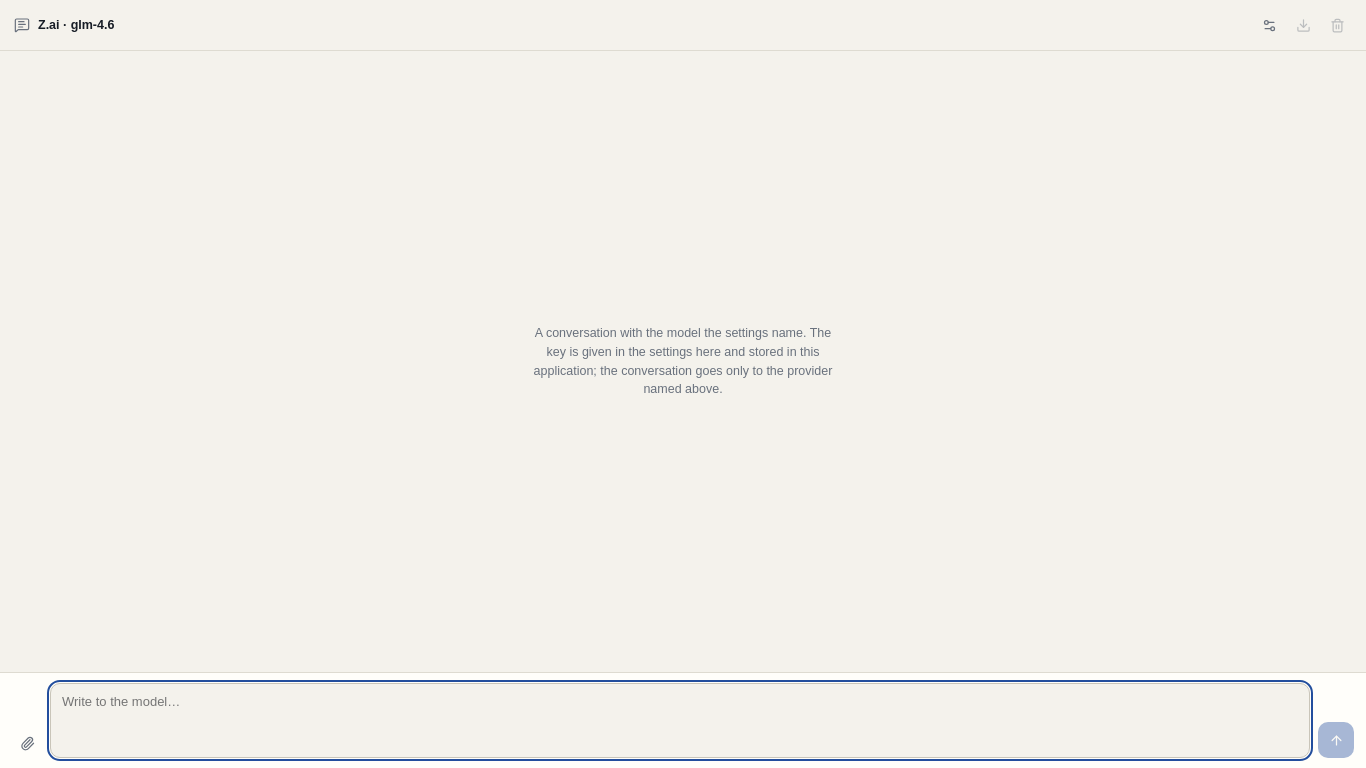
Test: ChatWindow › sends a message and streams the answer into the log
This screenshot has width=1366, height=768.
Type "hi there" into the text box named "Message" at (680, 721), box [50,683,1310,758]
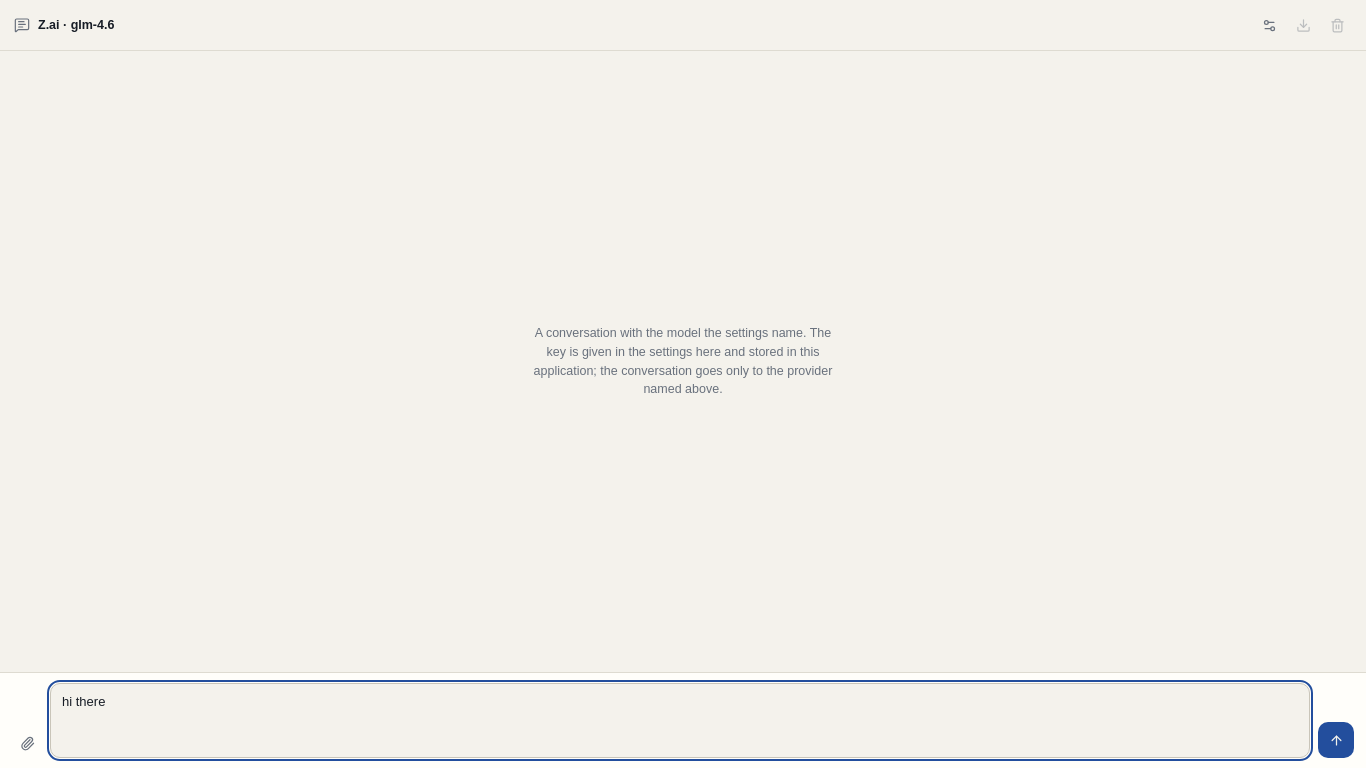
Press Enter
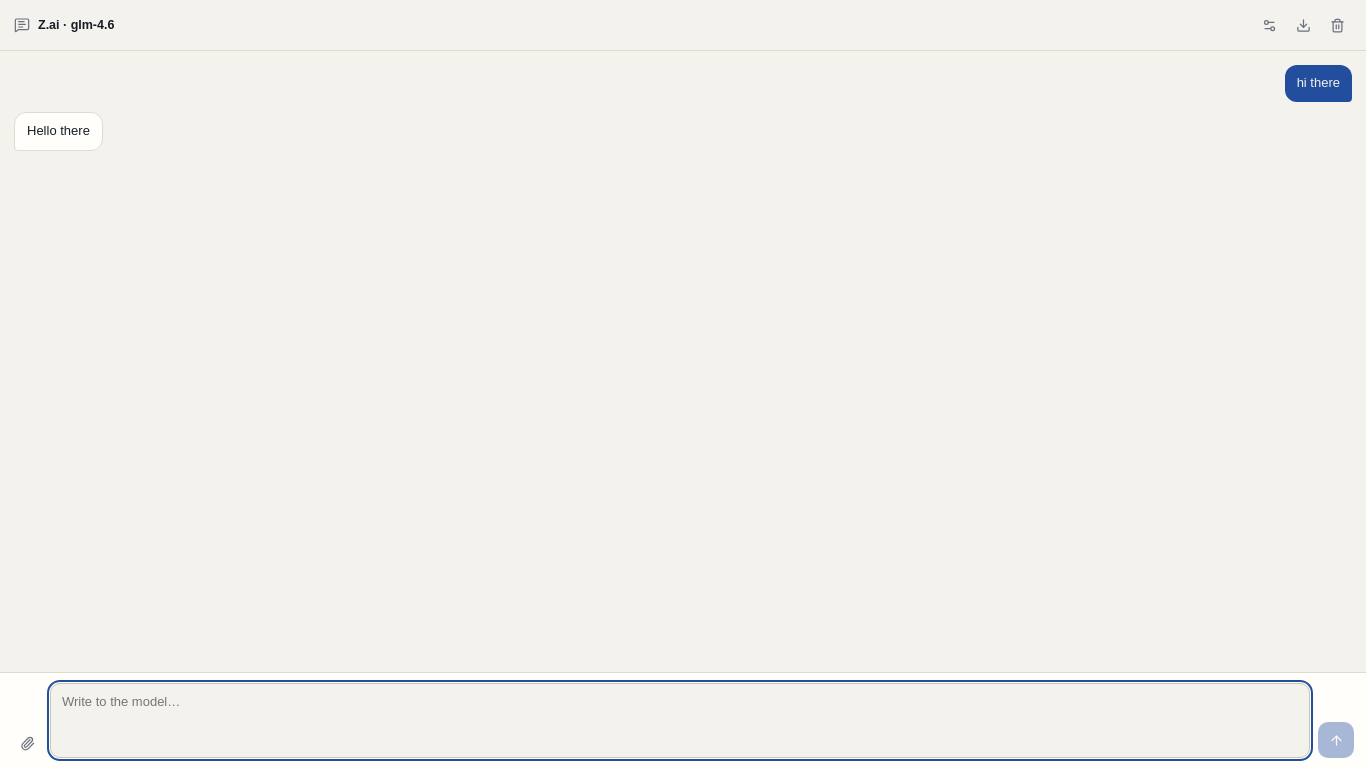
Check: the text "hi there" is shown, box [1297,74,1340,93]
Check: the text "Hello there" is shown, box [27,122,90,141]
